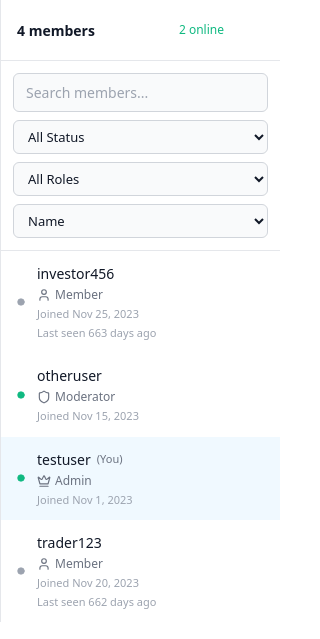
Test case: GroupMembers › member filtering and sorting › should filter by online status
Select "Online" in the dropdown named "Filter by status" at (140, 137), box [13,120,268,154]
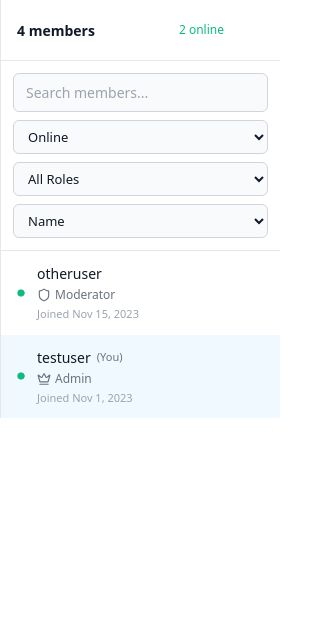
Check: the text "testuser" is shown, box [37,346,91,368]
Check: the text "trader123" is gone
Check: the text "investor456" is gone
